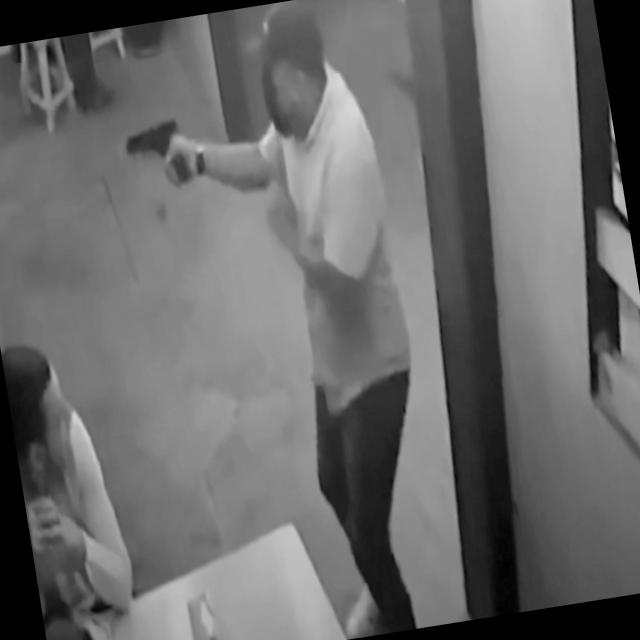gun: (122, 120, 196, 197)
person: (0, 332, 140, 628)
person with a gun: (107, 0, 455, 640)
